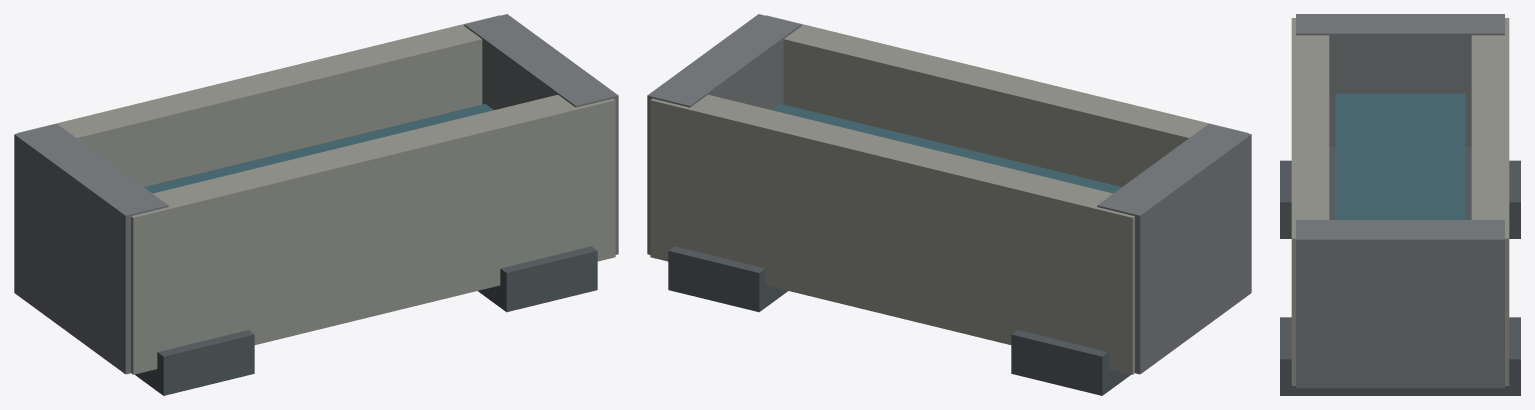
Rendered from 22_water_trough.fbx.
3 renders of one model, left to right at view 1: azimuth 30°, elevation 25°; view 2: azimuth 150°, elevation 25°; view 3: azimuth 270°, elevation 25°, orthographic. The views are drawn at different scales.
Parts seen in each view (by area): view 1: 22_water_trough; view 2: 22_water_trough; view 3: 22_water_trough.
Part boxes in pixels (left/top/right/bottom): 22_water_trough: left=14, top=14, right=618, bottom=395; 22_water_trough: left=647, top=14, right=1251, bottom=395; 22_water_trough: left=1280, top=14, right=1520, bottom=395.
Bounding box in the file's own units: 1.84 × 0.646 × 0.83.
Materials: 1 (1 with a texture image).
